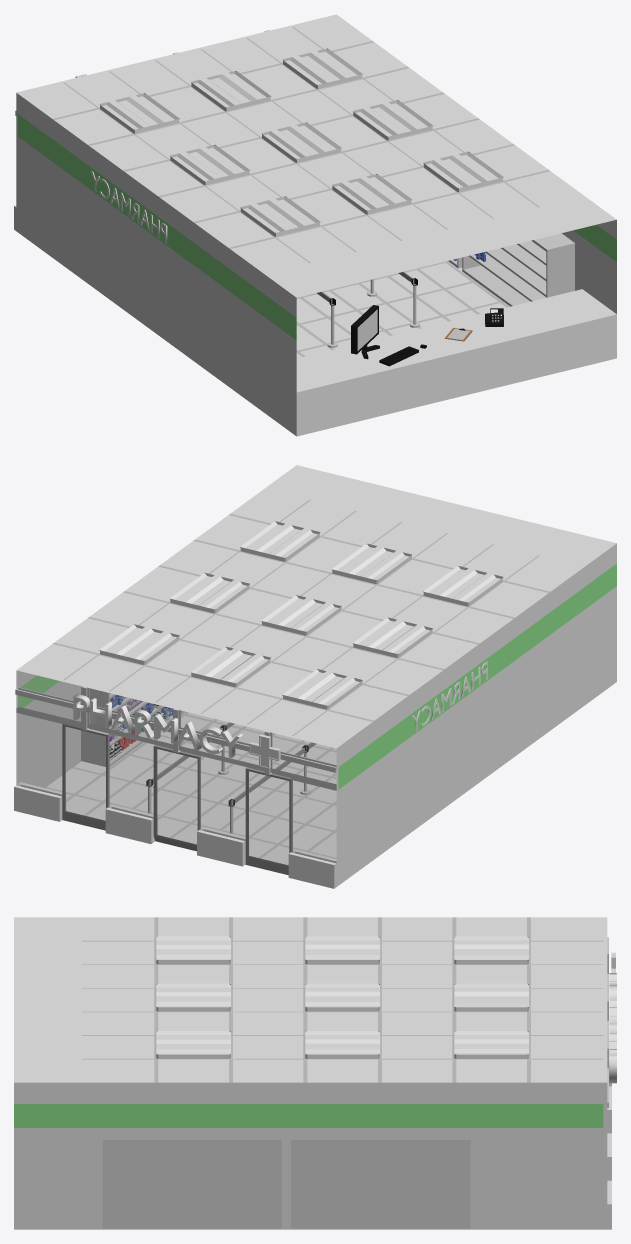
File: Pharmacy.fbx
3 renders of one model, top to bottom at view 1: azimuth 30°, elevation 25°; view 2: azimuth 150°, elevation 25°; view 3: azimuth 270°, elevation 25°, orthographic. The views are drawn at different scales.
Parts seen in each view (by area): view 1: Pharmacy, Monitor, Pharmacy left; view 2: Pharmacy, Doors, Doors.002, Doors.001, Pharmacy left; view 3: Pharmacy.
Part boxes in pixels (x1,y1,x2,y2): Pharmacy: (14,14,616,436); Monitor: (351,305,426,366); Pharmacy left: (91,170,167,243); Pharmacy: (14,465,616,888); Doors: (245,767,292,875); Doors.002: (62,724,109,830); Doors.001: (153,745,200,851); Pharmacy left: (412,661,487,731); Pharmacy: (14,917,616,1229).
Size of the model in its own units: 1002 by 427 by 1542.
